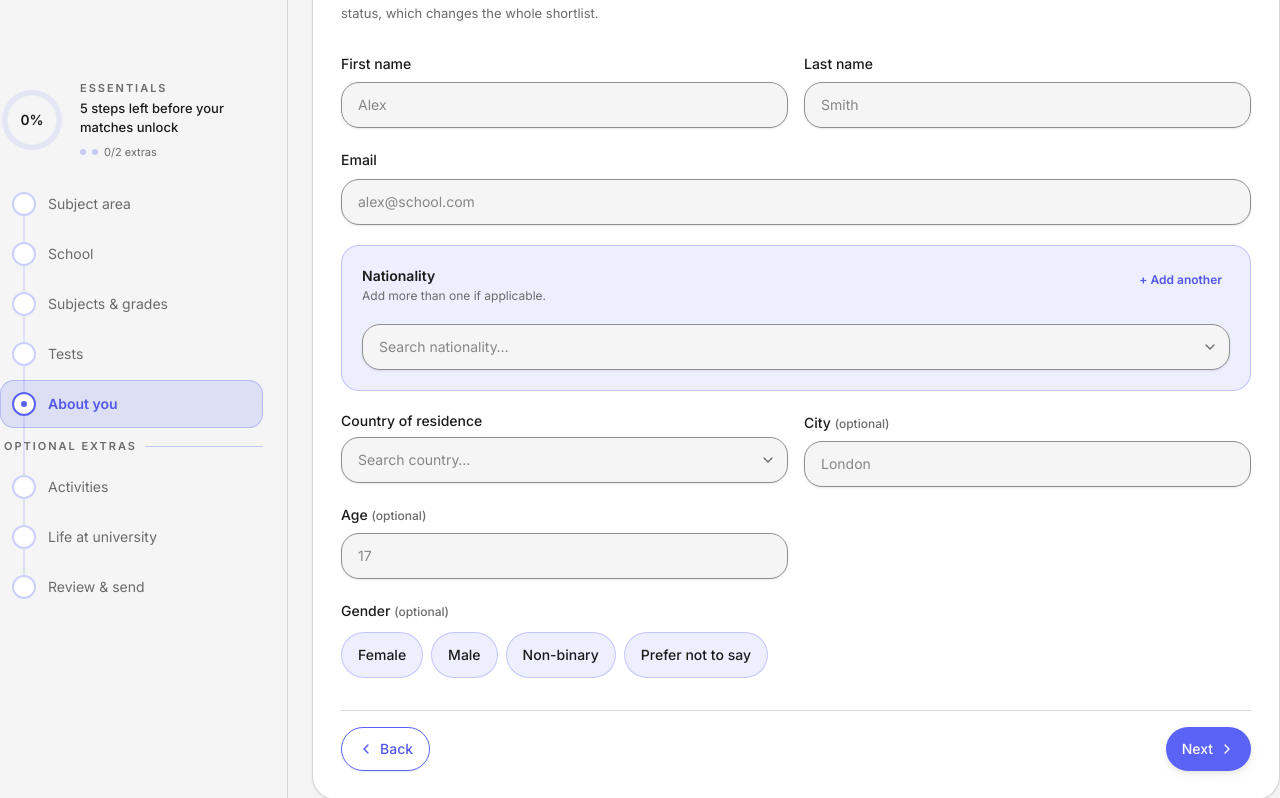
step navigation › blocks Next on the ABOUT screen and reports every missing field
(page scrolled)
Step 1. Click the button "Next" → x=1208, y=749, box [1166, 727, 1251, 771]
(page scrolled)
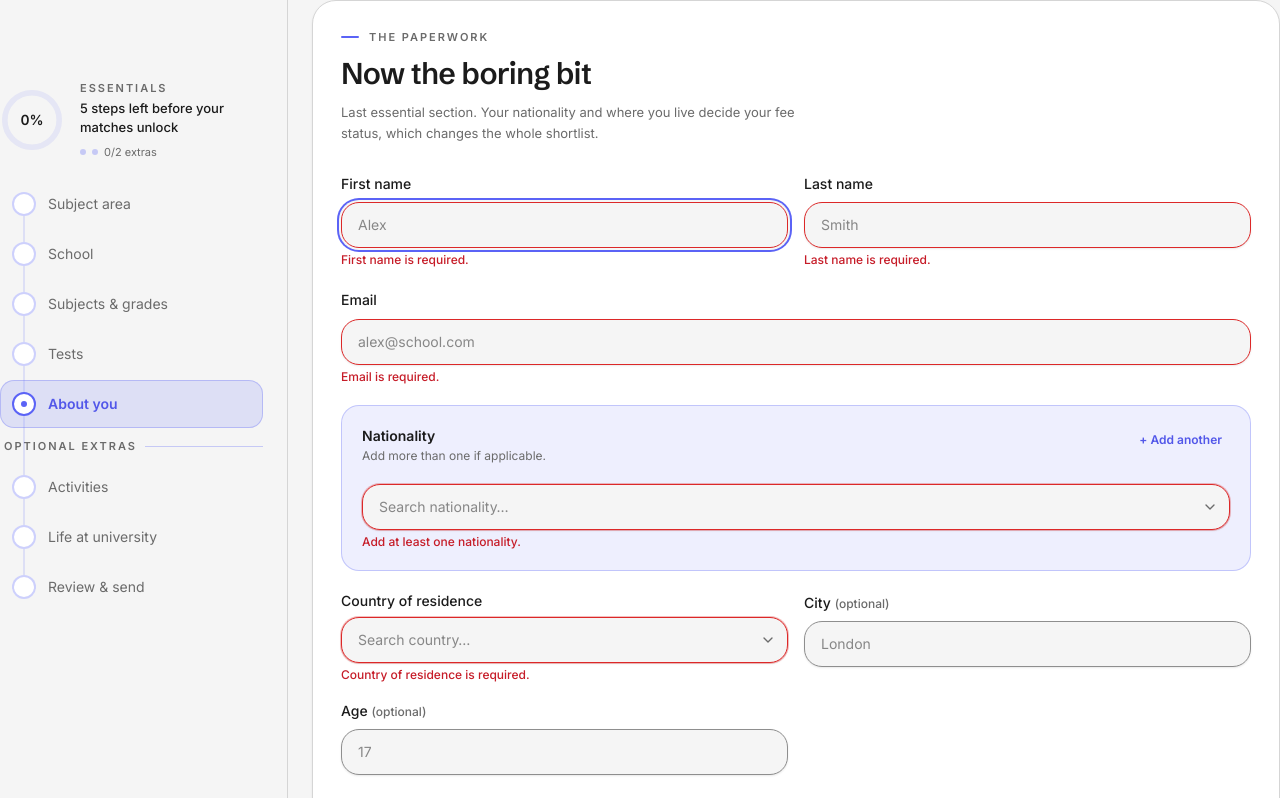
Expected: the text "First name is required." is shown, [341, 252, 469, 267]
Expected: the text "Last name is required." is shown, [804, 252, 931, 267]
Expected: the text "Add at least one nationality." is shown, [362, 534, 521, 548]
